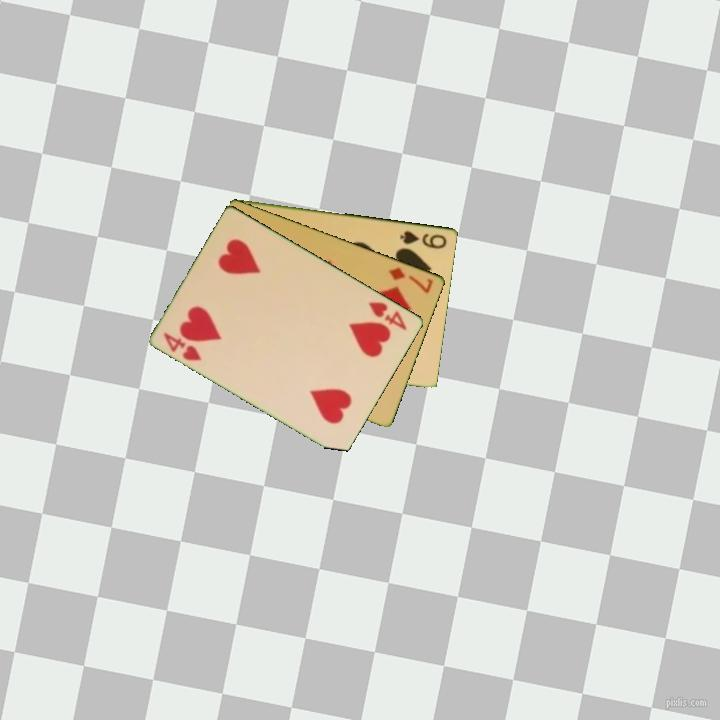4h: (365, 298, 410, 333), (160, 329, 205, 364)
7d: (385, 263, 436, 296)
9s: (397, 227, 450, 251)
